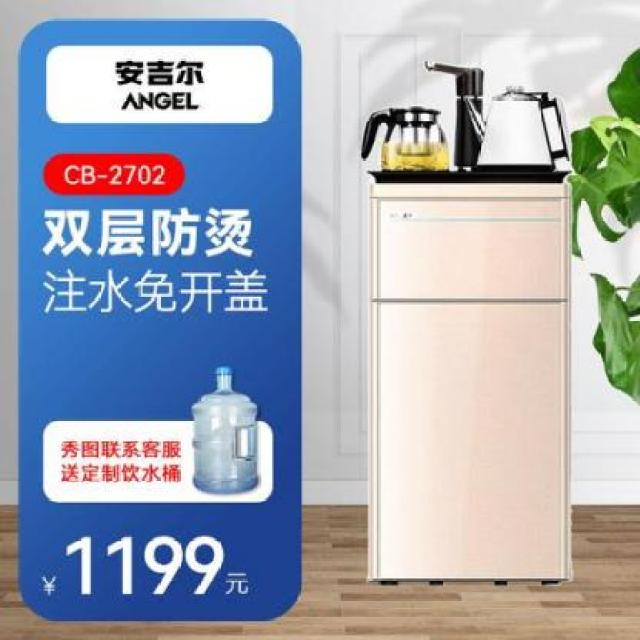cooler: (363, 56, 581, 588)
